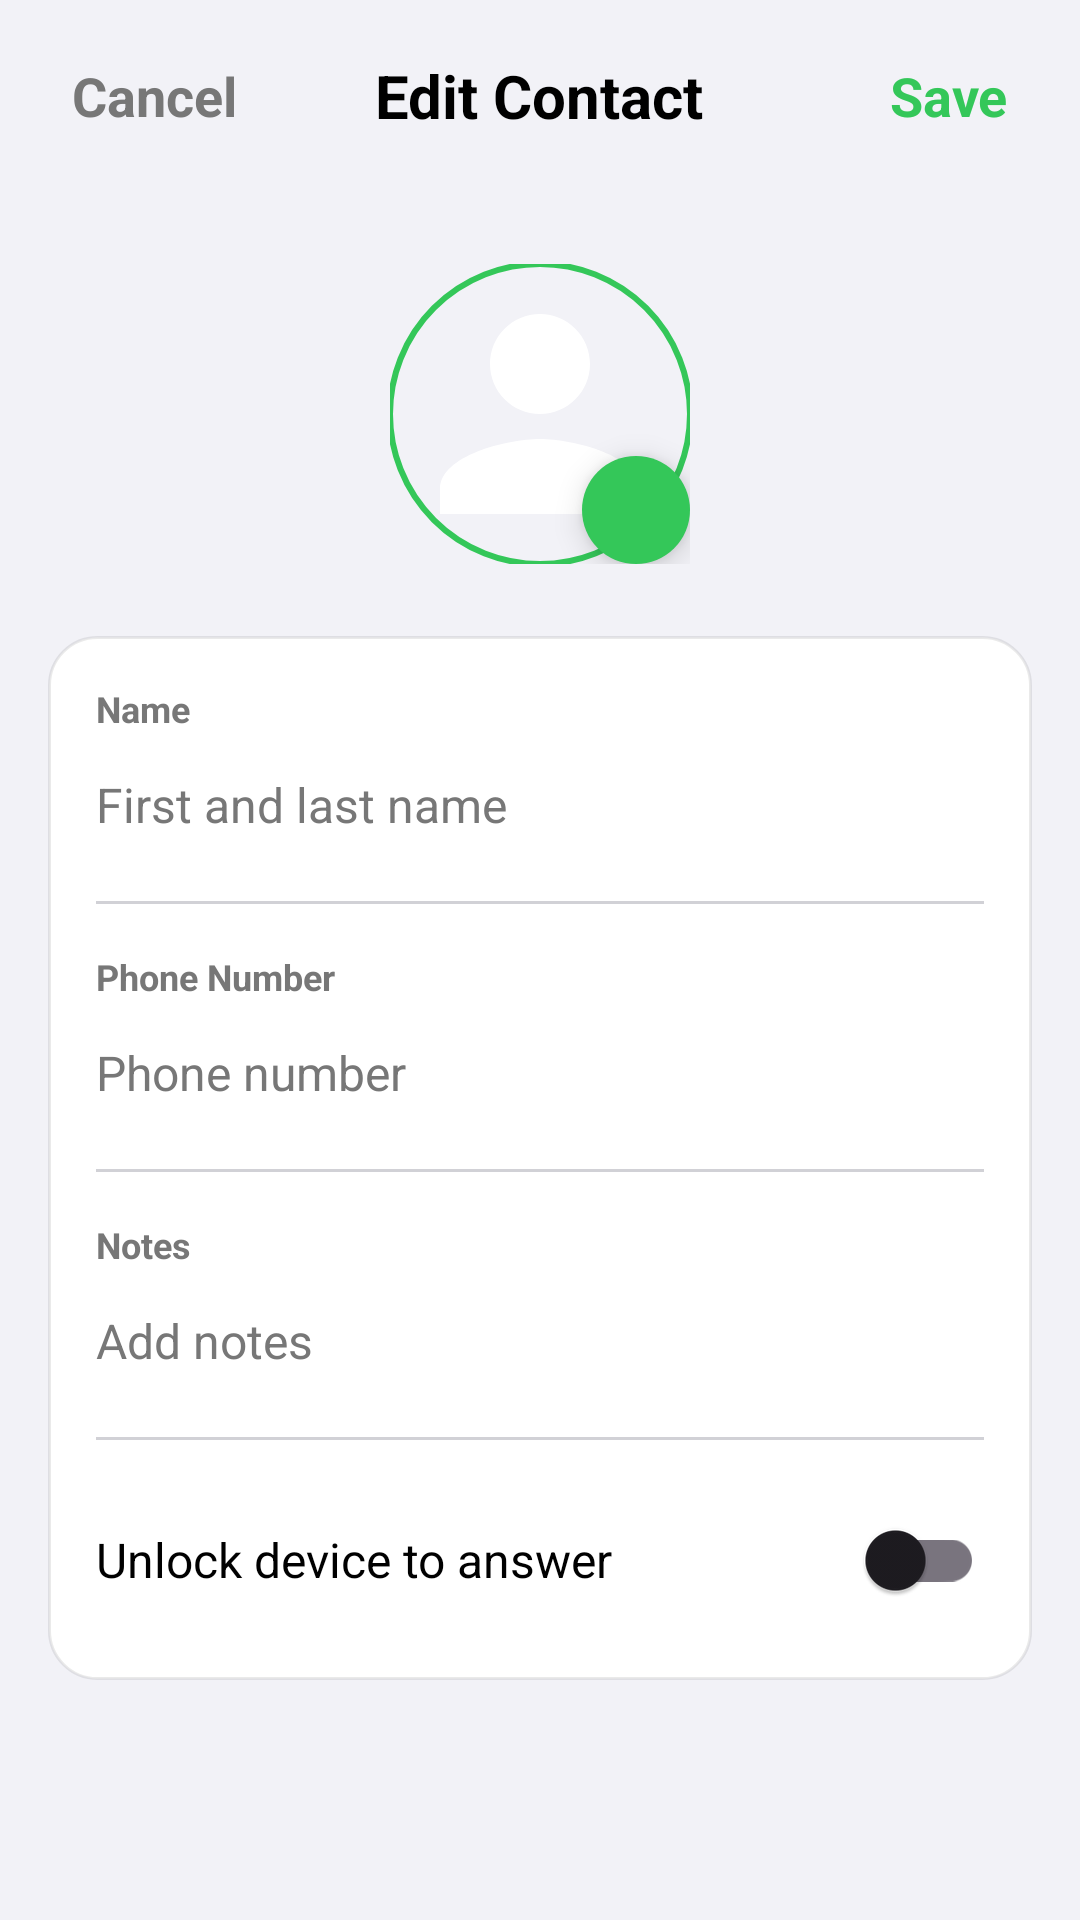

Screen size 1080*1920. Icon name, then its center in pixels as point (x, y):
contacts: point (540, 414)
